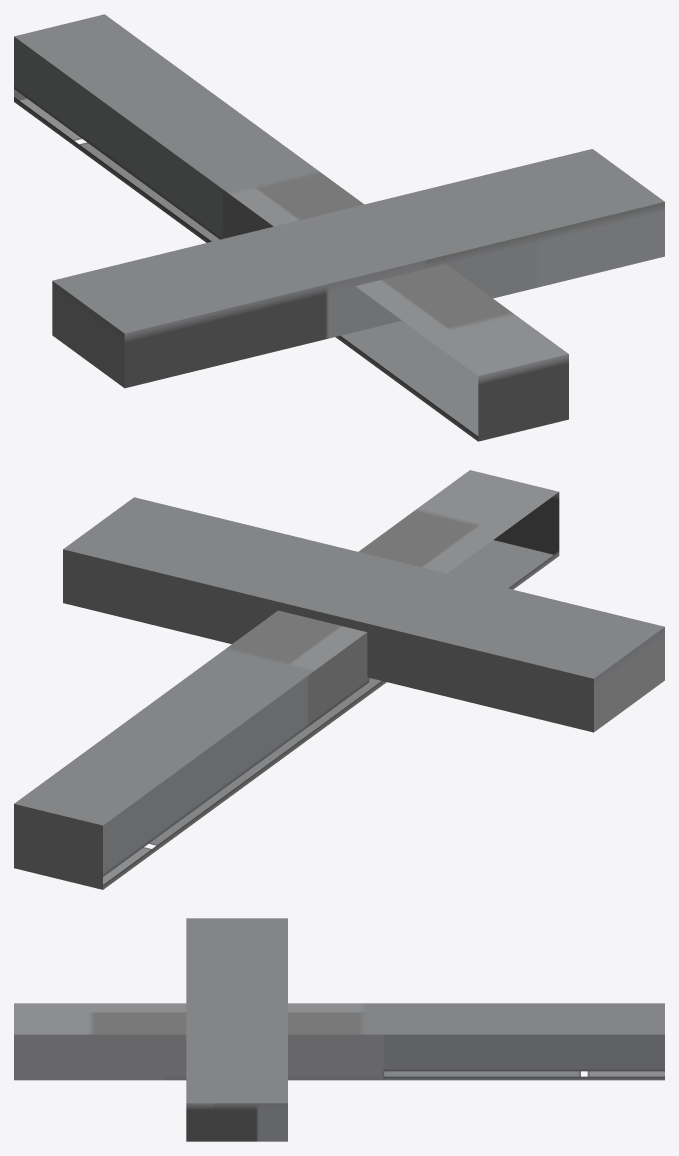
3 views of the same model, one above another, from view 1: azimuth 30°, elevation 25°; view 2: azimuth 150°, elevation 25°; view 3: azimuth 270°, elevation 25° (orthographic). The views are drawn at different scales.
Bounding box in the file's own units: 0.6128 × 0.0806 × 0.912.
